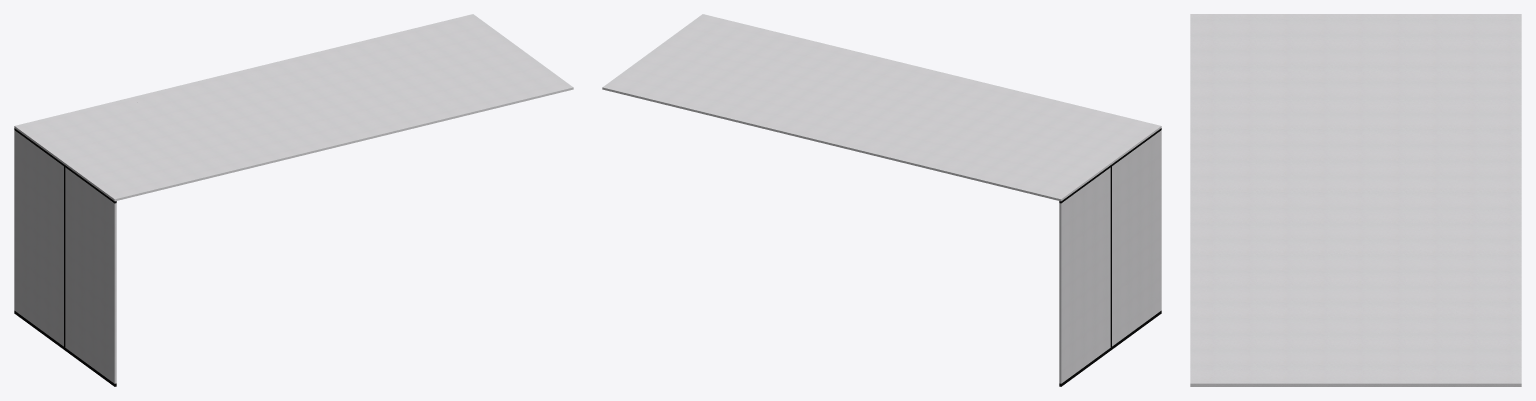
The model's file is rear-top-drywall.glb.
3 renders of one model, left to right at view 1: azimuth 30°, elevation 25°; view 2: azimuth 150°, elevation 25°; view 3: azimuth 270°, elevation 25°, orthographic. The views are drawn at different scales.
Visible parts, largest first — view 1: Obj_20FT_Blank_DryWall_reartop_5, 20FT_Blank_DryWall_reartop, Obj_20FT_Blank_DryWall_reartop_4, Obj_20FT_Blank_DryWall_reartop_1, Obj_20FT_Blank_DryWall_reartop_3, Obj_20FT_Blank_DryWall_reartop, Obj_20FT_Blank_DryWall_reartop_2; view 2: Obj_20FT_Blank_DryWall_reartop_5, 20FT_Blank_DryWall_reartop, Obj_20FT_Blank_DryWall_reartop_4, Obj_20FT_Blank_DryWall_reartop_1, Obj_20FT_Blank_DryWall_reartop, Obj_20FT_Blank_DryWall_reartop_3, Obj_20FT_Blank_DryWall_reartop_2; view 3: Obj_20FT_Blank_DryWall_reartop_4, 20FT_Blank_DryWall_reartop, Obj_20FT_Blank_DryWall_reartop_5, Obj_20FT_Blank_DryWall_reartop_1.
Boxes of the visible parts, box(x1,y1,x2,y2) form: Obj_20FT_Blank_DryWall_reartop_5: box(14, 97, 230, 201); 20FT_Blank_DryWall_reartop: box(247, 41, 463, 144); Obj_20FT_Blank_DryWall_reartop_4: box(131, 69, 347, 172); Obj_20FT_Blank_DryWall_reartop_1: box(363, 14, 573, 115); Obj_20FT_Blank_DryWall_reartop_3: box(65, 167, 116, 383); Obj_20FT_Blank_DryWall_reartop: box(14, 130, 63, 346); Obj_20FT_Blank_DryWall_reartop_2: box(14, 128, 116, 386); Obj_20FT_Blank_DryWall_reartop_5: box(945, 97, 1161, 201); 20FT_Blank_DryWall_reartop: box(712, 41, 928, 144); Obj_20FT_Blank_DryWall_reartop_4: box(828, 69, 1044, 172); Obj_20FT_Blank_DryWall_reartop_1: box(602, 14, 812, 115); Obj_20FT_Blank_DryWall_reartop: box(1059, 167, 1110, 383); Obj_20FT_Blank_DryWall_reartop_3: box(1112, 130, 1161, 346); Obj_20FT_Blank_DryWall_reartop_2: box(1059, 128, 1161, 386); Obj_20FT_Blank_DryWall_reartop_4: box(1190, 107, 1521, 201); 20FT_Blank_DryWall_reartop: box(1190, 201, 1521, 294); Obj_20FT_Blank_DryWall_reartop_5: box(1190, 14, 1521, 107); Obj_20FT_Blank_DryWall_reartop_1: box(1190, 295, 1521, 386).
Bounding box in the file's own units: 5.87 × 2.29 × 2.22.
Materials: 2 (1 with a texture image).
